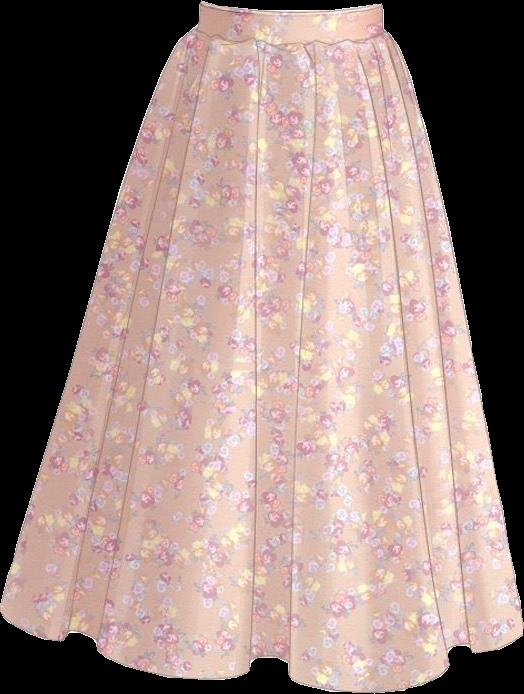Hemline: (0, 607, 523, 693)
Waistline: (187, 28, 392, 49), (196, 0, 378, 17)
